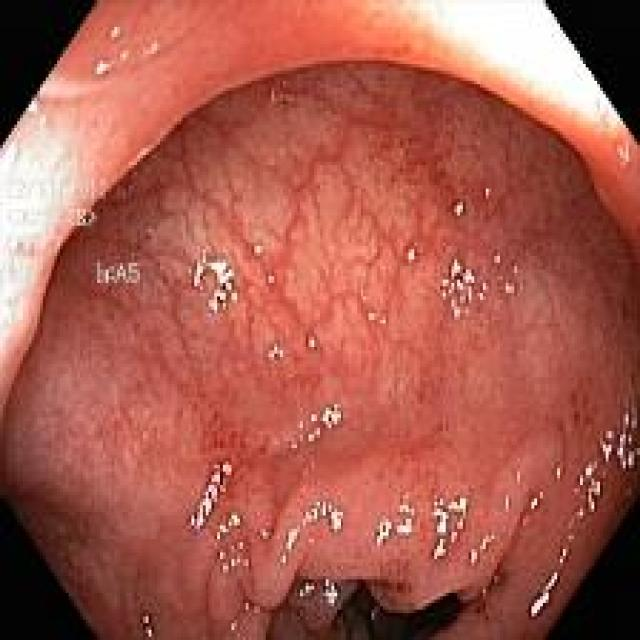ulcerative-colitis-grade-0-1: (2, 63, 639, 637)
